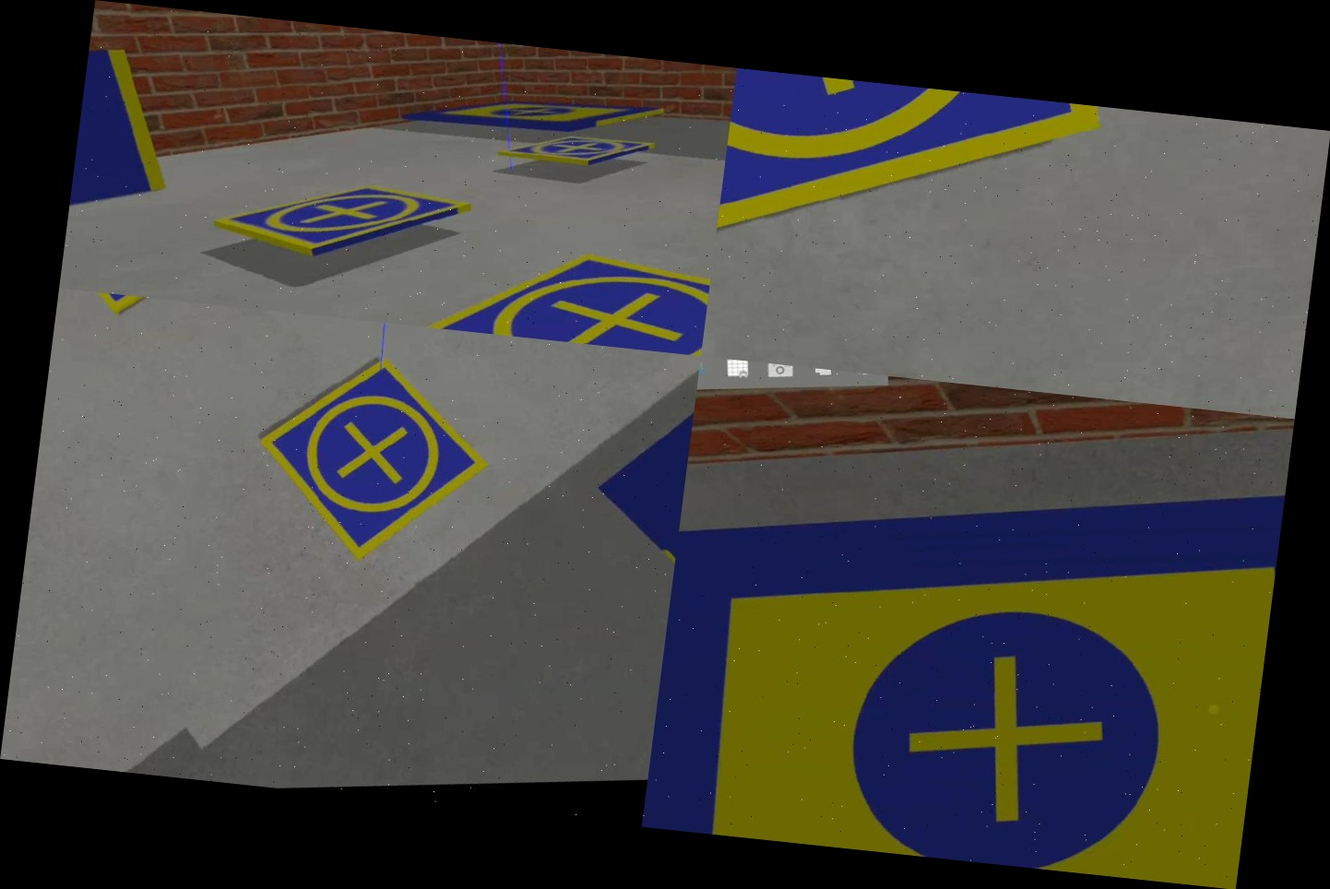large_base: (642, 415, 1287, 889), (523, 343, 701, 785), (396, 65, 674, 167)
small_base: (711, 68, 1120, 316), (230, 329, 519, 585), (391, 207, 715, 356), (209, 157, 482, 286), (491, 113, 665, 191)
